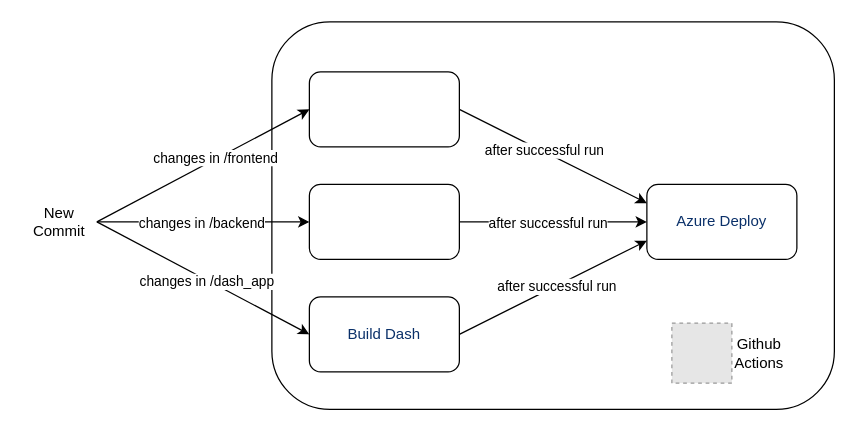
Image size: 856x431. Some labels were removed from this diagram. Grey dashed boxes stand in for pictures. The shapes that lost their labels are listed below. From the top down, each one's box as (x1, y1, x2, y2) in pixels, then its label:
(308, 71, 459, 147): Build Frontend
(308, 183, 459, 259): Build Backend
